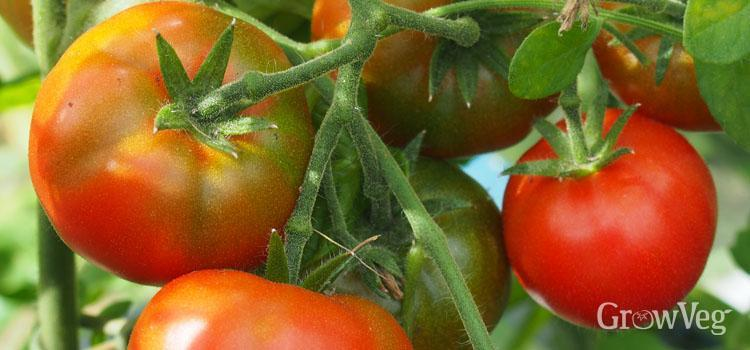healthy-tomato: (29, 5, 382, 289), (504, 104, 719, 333), (127, 270, 415, 350)
